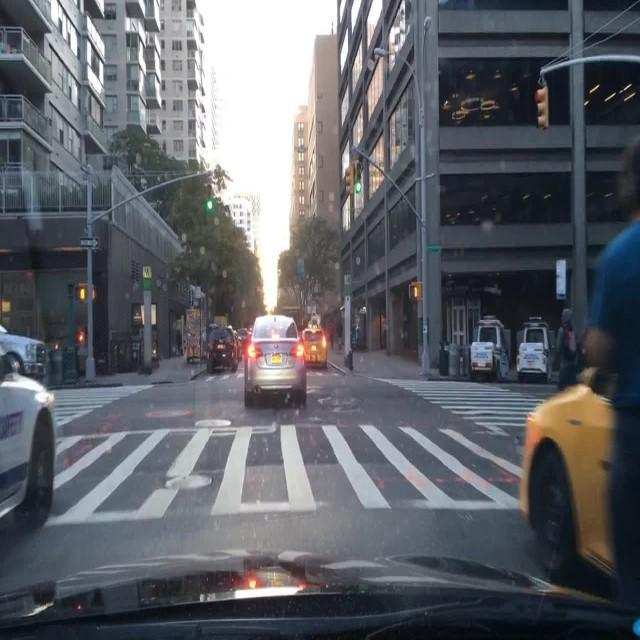normal: (0, 320, 73, 582), (225, 303, 316, 410)
